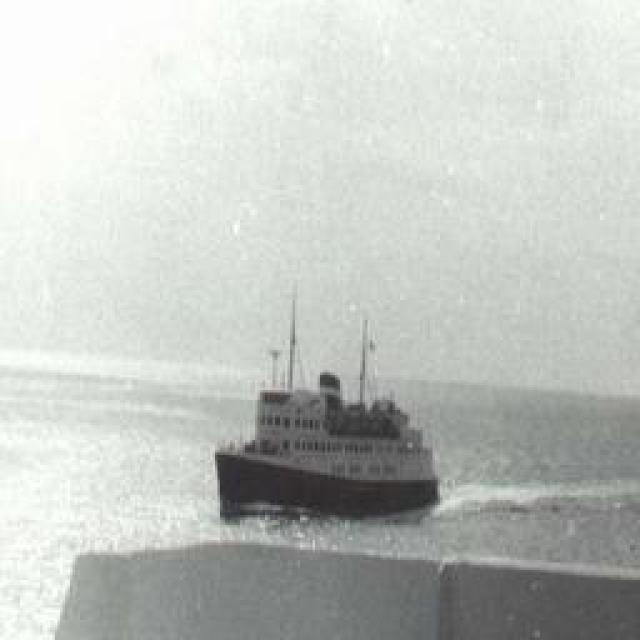Ship: (216, 292, 439, 522)
